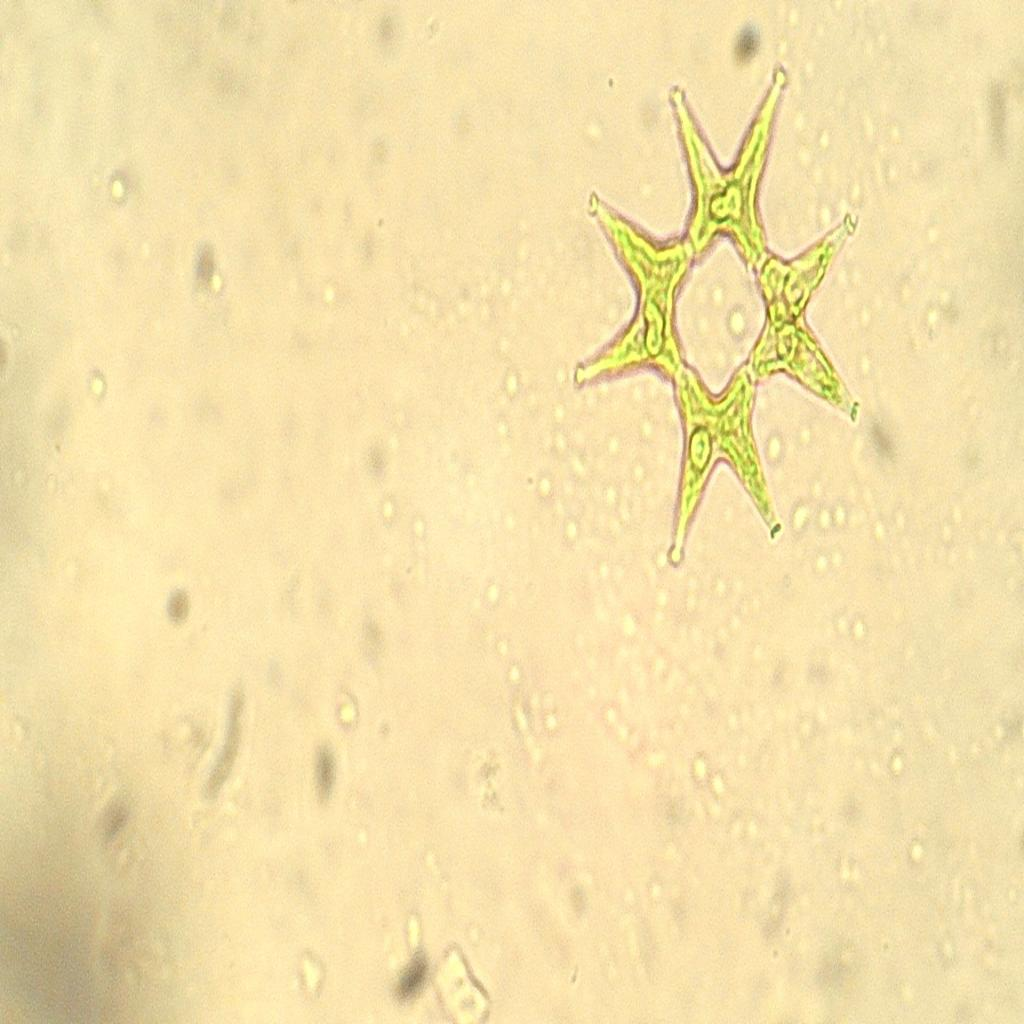Pediastrum_CO: (566, 64, 865, 592)
